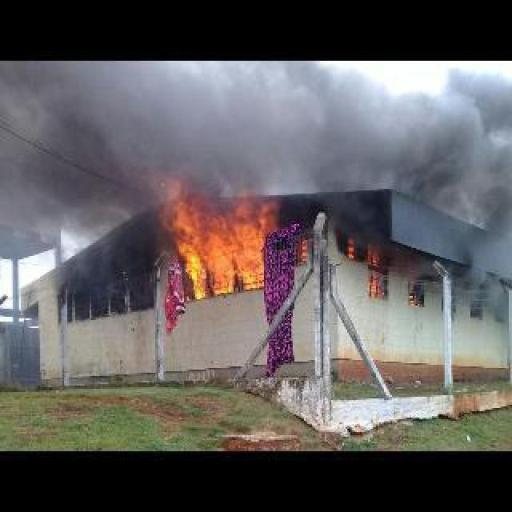smoke: (0, 60, 329, 228), (328, 64, 511, 304), (155, 176, 277, 306)
